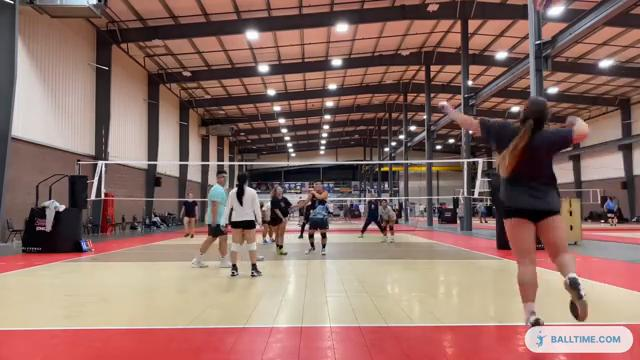Player: (225, 173, 261, 276), (192, 170, 230, 267), (306, 181, 328, 254), (269, 186, 291, 254), (358, 193, 383, 237), (180, 192, 197, 237), (379, 199, 395, 242), (261, 200, 273, 244), (298, 198, 311, 238)
Serve: (436, 94, 593, 326)
ball: (531, 0, 566, 18)
